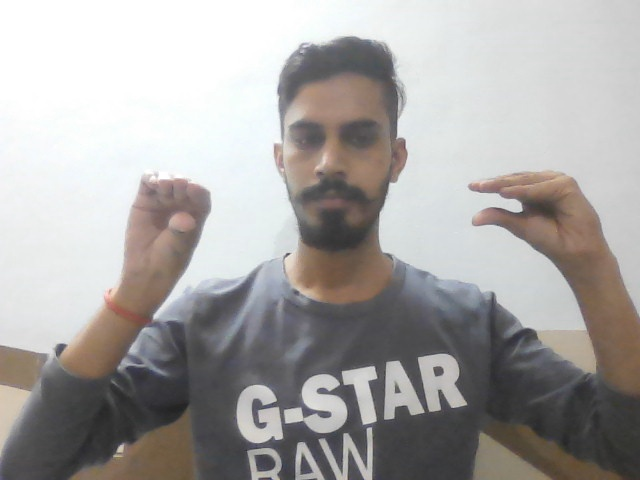No: (462, 146, 621, 274), (122, 170, 219, 284)
